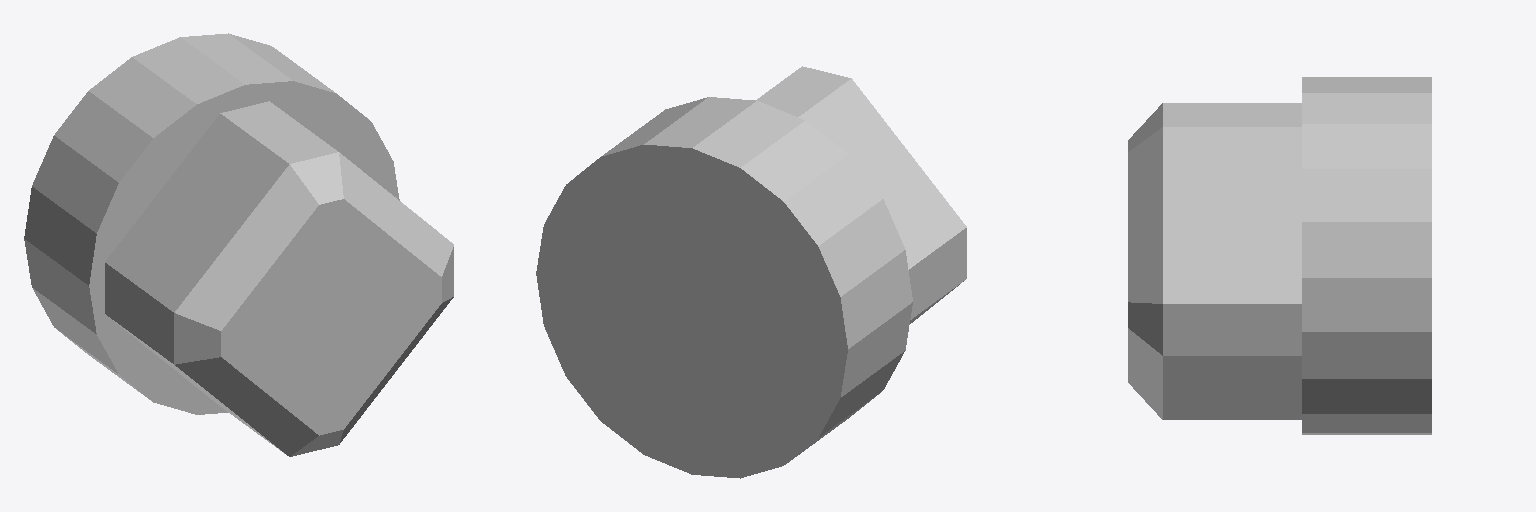
The model's file is RuchkaVerhMel.obj.
The picture shows the model from 3 angles: view 1: azimuth 30°, elevation 25°; view 2: azimuth 150°, elevation 25°; view 3: azimuth 270°, elevation 25°; orthographic projection.
Parts seen in each view (by area): view 1: pCube106; view 2: pCube106; view 3: pCube106.
Part boxes in pixels (x1,y1,x2,y2): pCube106: (24, 33, 453, 456); pCube106: (536, 66, 966, 478); pCube106: (1128, 77, 1431, 434).
Size of the model in its own units: 0.1178 by 0.1178 by 0.0992.